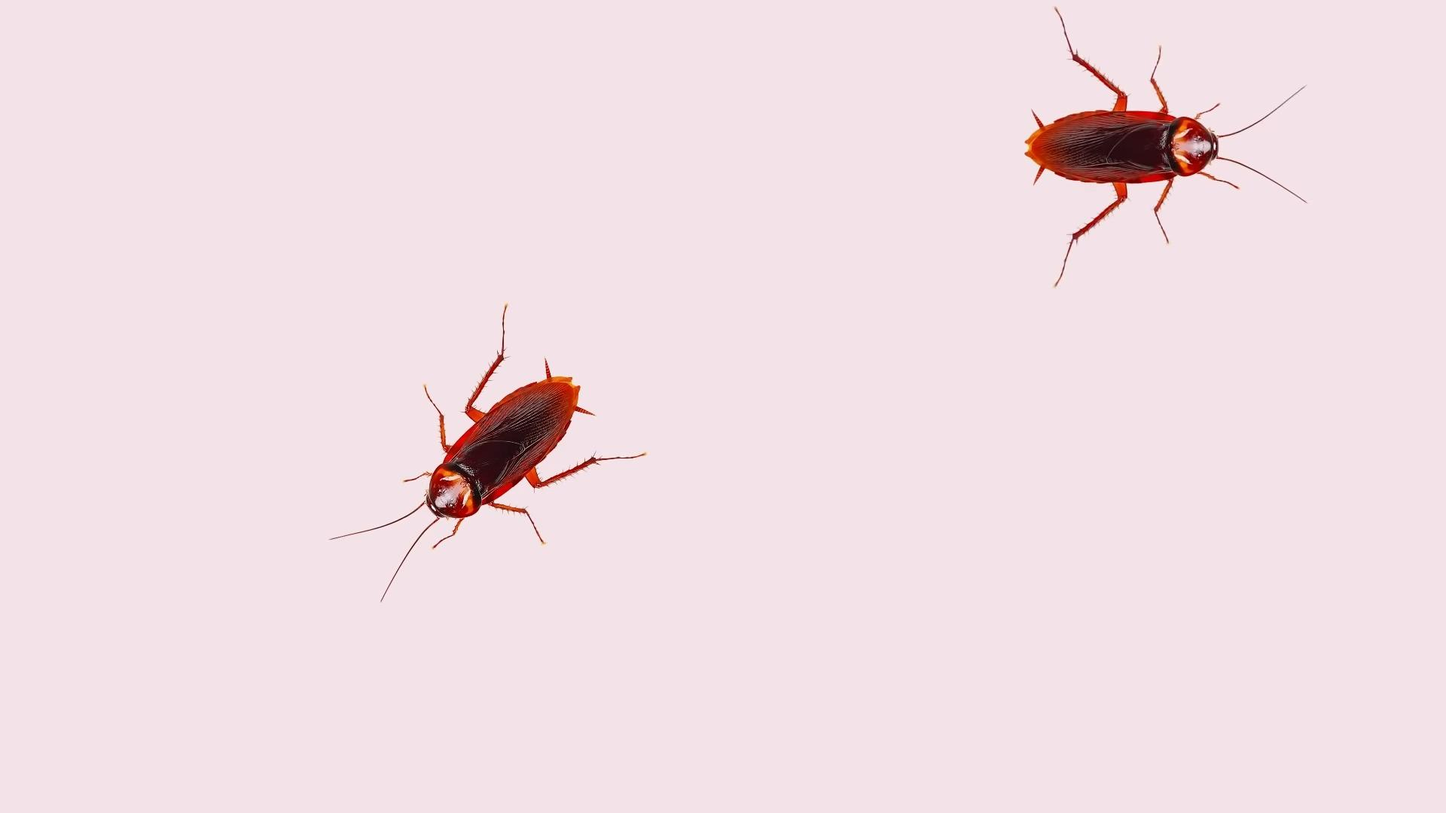cockroach: (313, 301, 656, 603), (1013, 5, 1306, 302)
